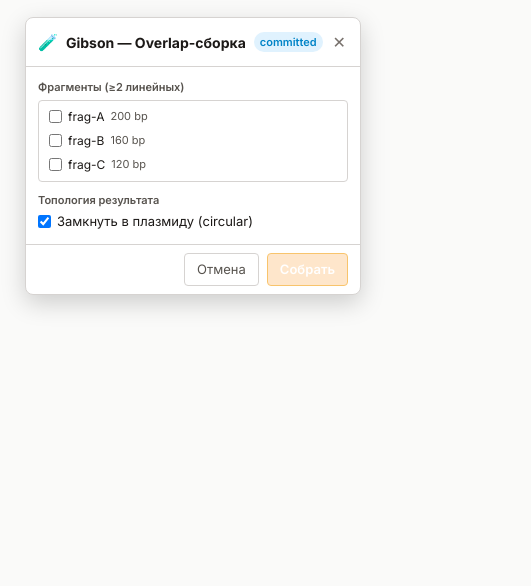
Test: K7 — GibsonOpPopup › Execute disabled when <2 fragments selected
This screenshot has width=531, height=586.
Expected: the button with test id "op-popup-execute" is disabled, [267, 252, 348, 286]
Click the checkbox with test id "gibson-op-fragment-c-lin1" at (56, 116), box [49, 110, 62, 123]
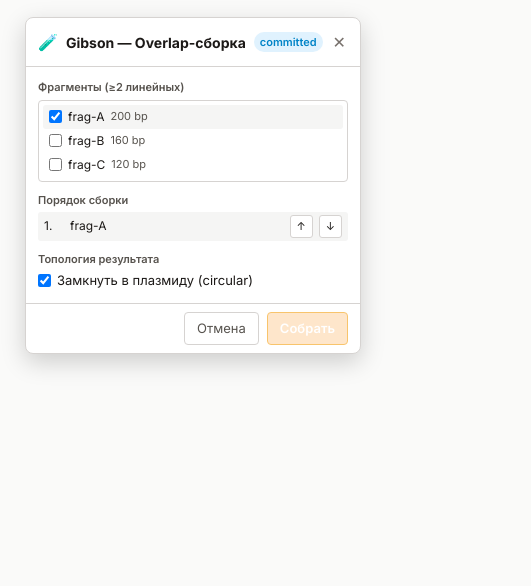
Expected: the button with test id "op-popup-execute" is disabled, [267, 312, 348, 345]
Click the checkbox with test id "gibson-op-fragment-c-lin2" at (56, 140), box [49, 134, 62, 147]
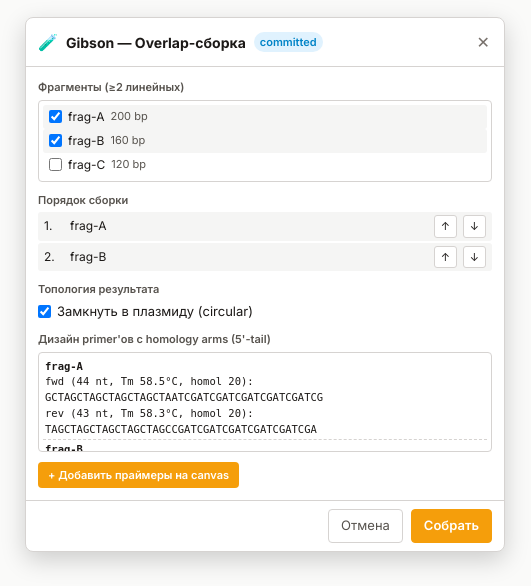
Now the button with test id "op-popup-execute" is enabled, box [411, 509, 492, 542]
